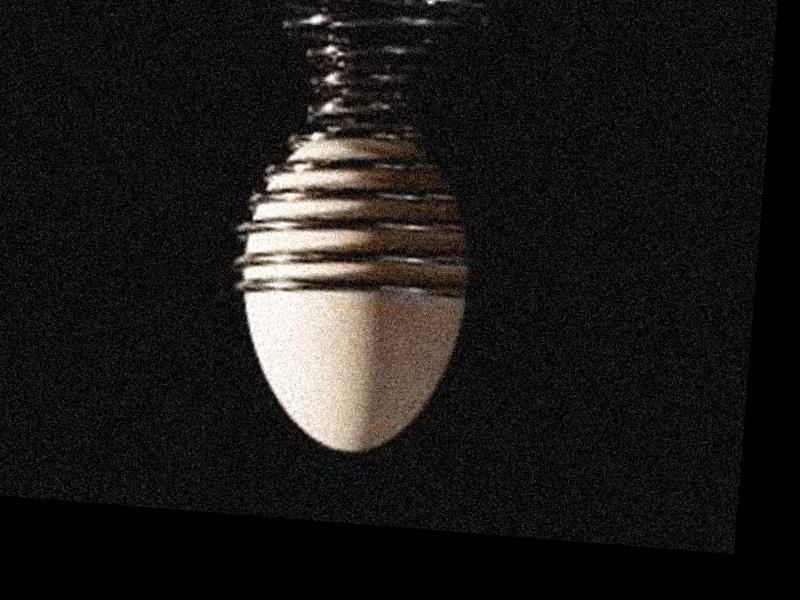Eggs: (228, 126, 477, 461)
